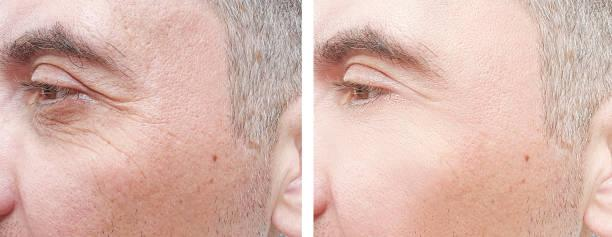Dry-Skin: (75, 106, 228, 224)
